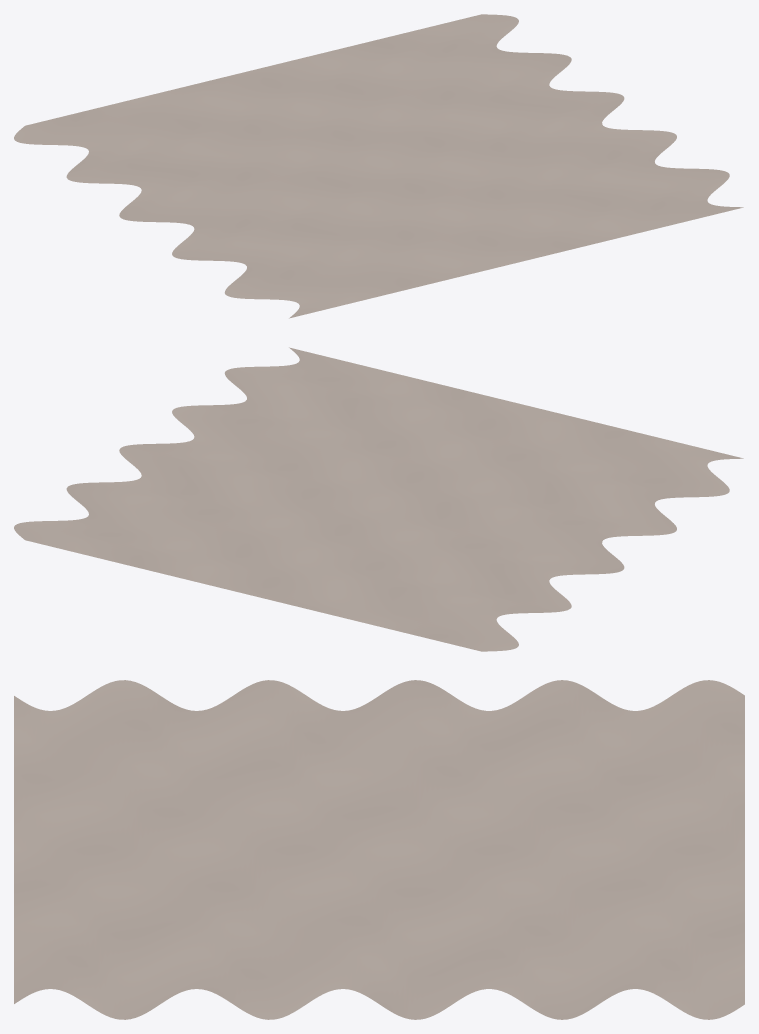
The model's file is biome-river.glb.
The picture shows the model from 3 angles, top to bottom: view 1: azimuth 30°, elevation 25°; view 2: azimuth 150°, elevation 25°; view 3: azimuth 270°, elevation 25°; orthographic projection. The views are drawn at different scales.
Visible parts, largest first — view 1: Flowing river ribbon; view 2: Flowing river ribbon; view 3: Flowing river ribbon.
Part boxes in pixels (bbox=[...]): Flowing river ribbon: bbox=[14, 14, 743, 318]; Flowing river ribbon: bbox=[14, 347, 743, 651]; Flowing river ribbon: bbox=[14, 680, 744, 1019].
Bounding box in the file's own units: 1.1 × 0 × 1.
